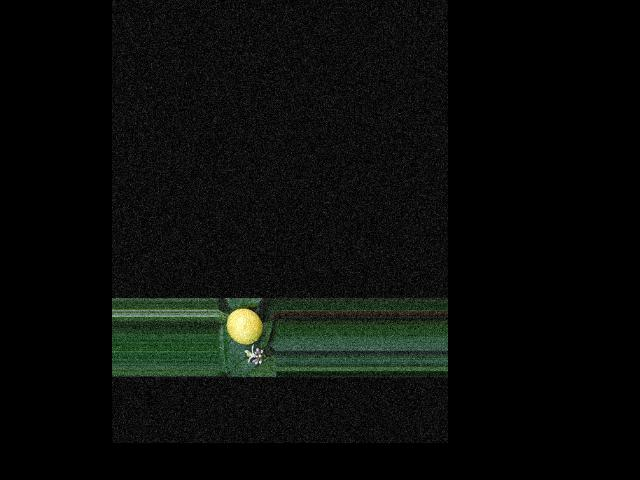lemon: (225, 305, 262, 345)
